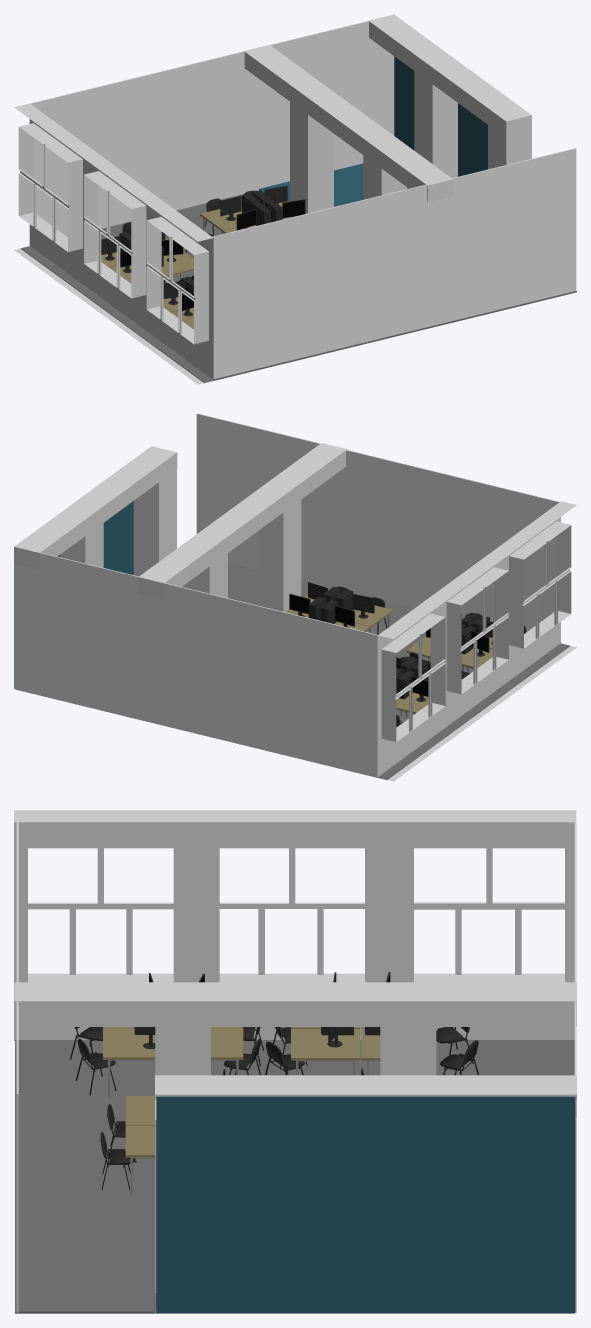
File: kvk.fbx
3 renders of one model, top to bottom at view 1: azimuth 30°, elevation 25°; view 2: azimuth 150°, elevation 25°; view 3: azimuth 270°, elevation 25°, orthographic. The views are drawn at different scales.
Parts seen in each view (by area): view 1: левая стена, стена 1, стена 1.001, верхняя балка, верхняя балка.001, правая балка, пол, правая балка.001, Plane.002, левая балка.001, Plane, левая балка (+2 smaller); view 2: стена 1, левая стена, стена 1.001, верхняя балка, верхняя балка.001, пол, левая балка, левая балка.001, Plane.002, правая балка.001, правая балка, Cube.006; view 3: Plane.002, стена 1.001, пол, верхняя балка, верхняя балка.001, правая балка, левая балка, Cube.011, Cube.015, левая стена, Cube.008, стена 1 (+4 smaller).
Boxes of the visible parts, box(x1,y1,x2,y2) form: левая стена: box(212, 148, 576, 378); стена 1: box(29, 21, 394, 245); стена 1.001: box(14, 103, 213, 384); верхняя балка: box(244, 45, 453, 201); верхняя балка.001: box(369, 14, 531, 137); правая балка: box(290, 102, 333, 213); пол: box(20, 190, 576, 383); правая балка.001: box(414, 71, 457, 178); Plane.002: box(394, 56, 487, 176); левая балка.001: box(488, 125, 531, 169); Plane: box(259, 163, 408, 206); левая балка: box(363, 155, 407, 199); стена 1: box(15, 552, 378, 777); левая стена: box(196, 413, 560, 643); стена 1.001: box(378, 501, 576, 781); верхняя балка: box(138, 443, 347, 599); верхняя балка.001: box(14, 446, 177, 569); пол: box(16, 563, 569, 779); левая балка: box(257, 500, 301, 611); левая балка.001: box(133, 469, 176, 576); Plane.002: box(14, 501, 133, 688); правая балка.001: box(60, 523, 103, 567); правая балка: box(184, 553, 227, 597); Cube.006: box(353, 605, 393, 632); Plane.002: box(156, 1096, 575, 1312); стена 1.001: box(14, 810, 576, 1040); пол: box(15, 1040, 574, 1313); верхняя балка: box(14, 982, 576, 1026); верхняя балка.001: box(155, 1075, 576, 1119); правая балка: box(380, 1026, 436, 1075); левая балка: box(155, 1026, 210, 1075); Cube.011: box(291, 1029, 360, 1075); Cube.015: box(103, 1028, 155, 1097); левая стена: box(16, 822, 18, 1312); Cube.008: box(125, 1125, 155, 1195); стена 1: box(574, 822, 576, 1312).
Bounding box in the file's own units: 41525 × 14957 × 34763.
